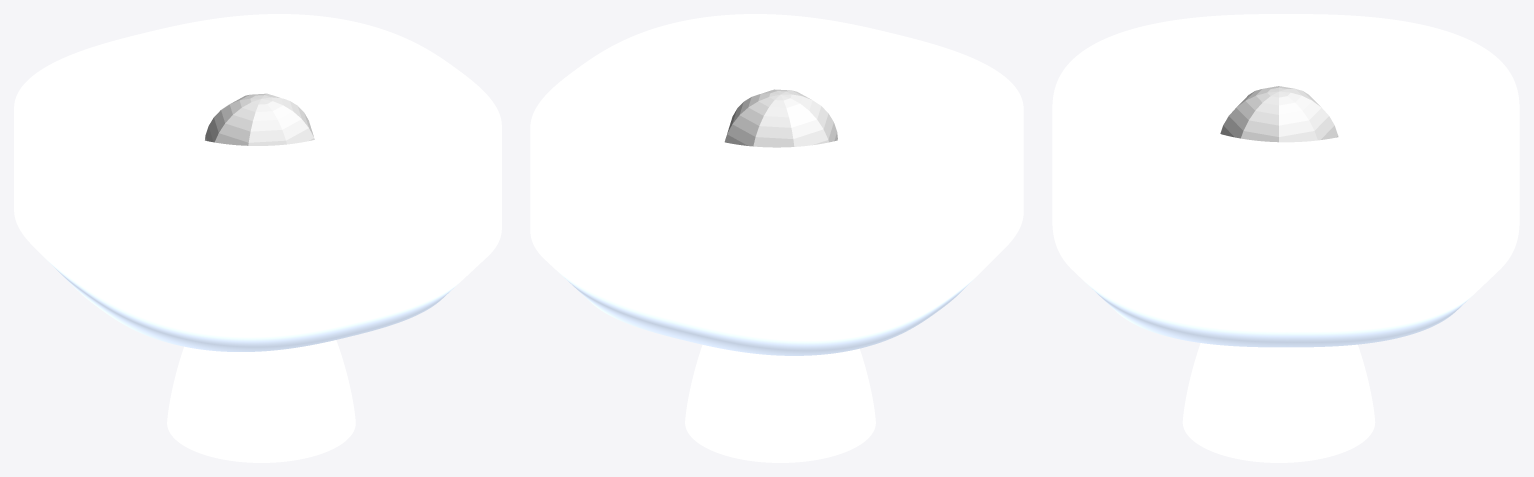
Rendered from SmartThingsMotionSensor.gltf.
3 renders of one model, left to right at view 1: azimuth 30°, elevation 25°; view 2: azimuth 150°, elevation 25°; view 3: azimuth 270°, elevation 25°, orthographic.
Parts seen in each view (by area): view 1: frontcover, bottomroot, rearcover, PIP Sencor, bottomball; view 2: frontcover, bottomroot, rearcover, PIP Sencor, bottomball; view 3: frontcover, bottomroot, rearcover, PIP Sencor, bottomball.
Boxes of the visible parts, <box> form: frontcover: <box>14,14,501,322</box>; bottomroot: <box>167,340,355,462</box>; rearcover: <box>35,248,483,351</box>; PIP Sencor: <box>205,93,314,145</box>; bottomball: <box>195,341,332,366</box>; frontcover: <box>530,14,1023,325</box>; bottomroot: <box>685,345,875,462</box>; rearcover: <box>549,253,999,355</box>; PIP Sencor: <box>724,89,837,147</box>; bottomball: <box>713,347,840,365</box>; frontcover: <box>1052,14,1519,315</box>; bottomroot: <box>1182,343,1375,462</box>; rearcover: <box>1076,273,1495,347</box>; PIP Sencor: <box>1220,86,1338,142</box>; bottomball: <box>1209,344,1346,364</box>.
Size of the model in its own units: 1.17 by 0.9135 by 1.17.
